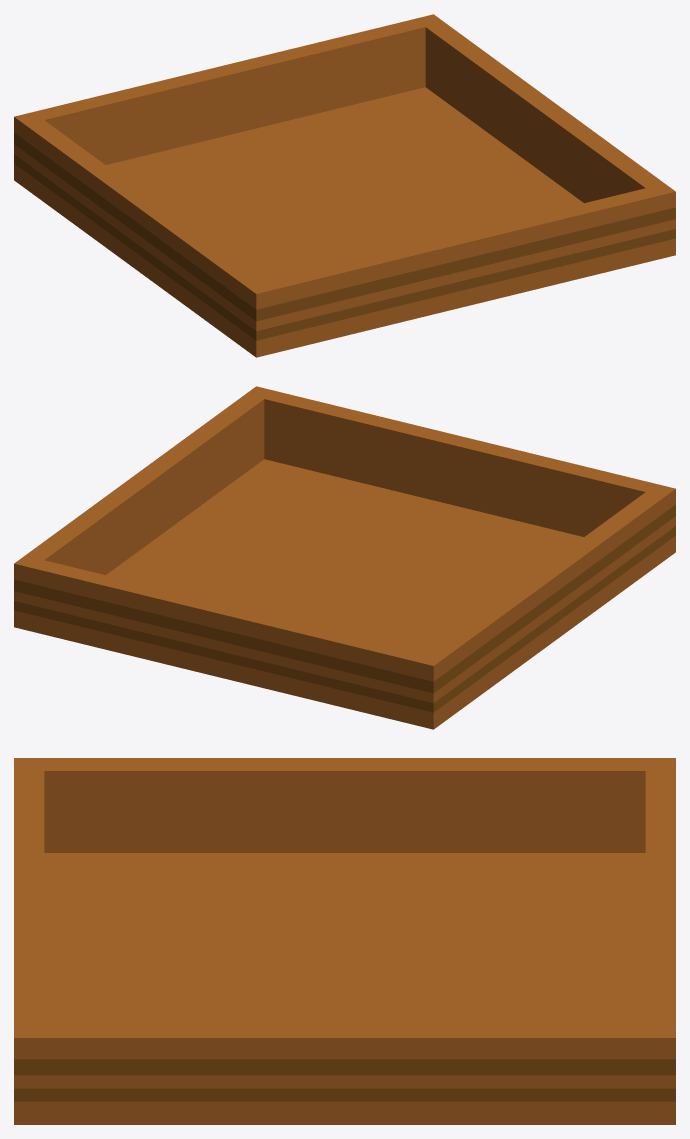
The model's file is poolll.fbx.
3 renders of one model, top to bottom at view 1: azimuth 30°, elevation 25°; view 2: azimuth 150°, elevation 25°; view 3: azimuth 270°, elevation 25°, orthographic. The views are drawn at different scales.
Parts seen in each view (by area): view 1: poolll; view 2: poolll; view 3: poolll.
Boxes of the visible parts, x1,y1,x2,y2 form: poolll: [14, 14, 675, 357]; poolll: [14, 386, 675, 729]; poolll: [14, 758, 675, 1124].
Size of the model in its own units: 200 by 28.98 by 200.
